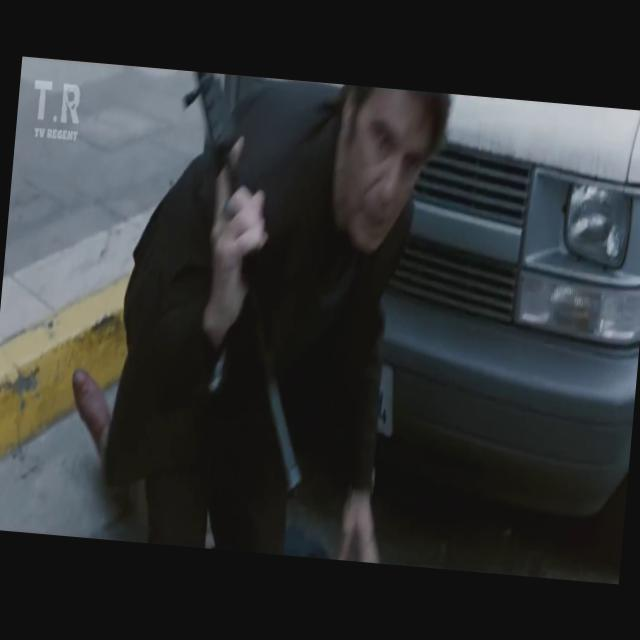long weapon: (144, 69, 360, 542)
